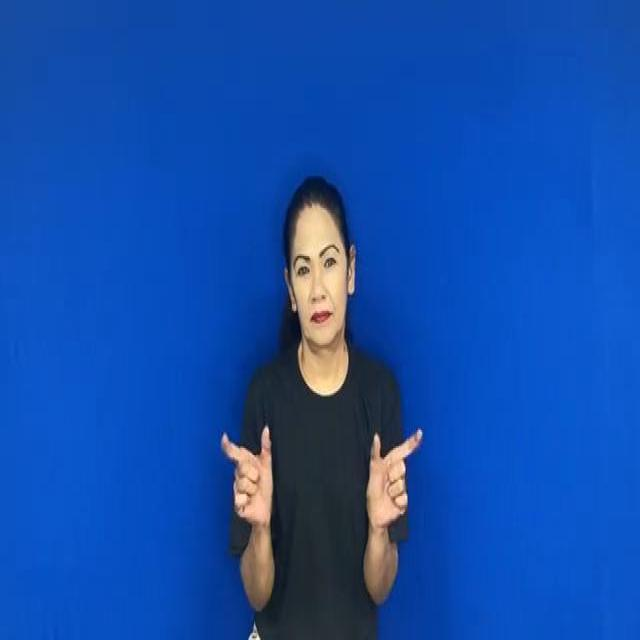crab: (207, 397, 431, 540)
